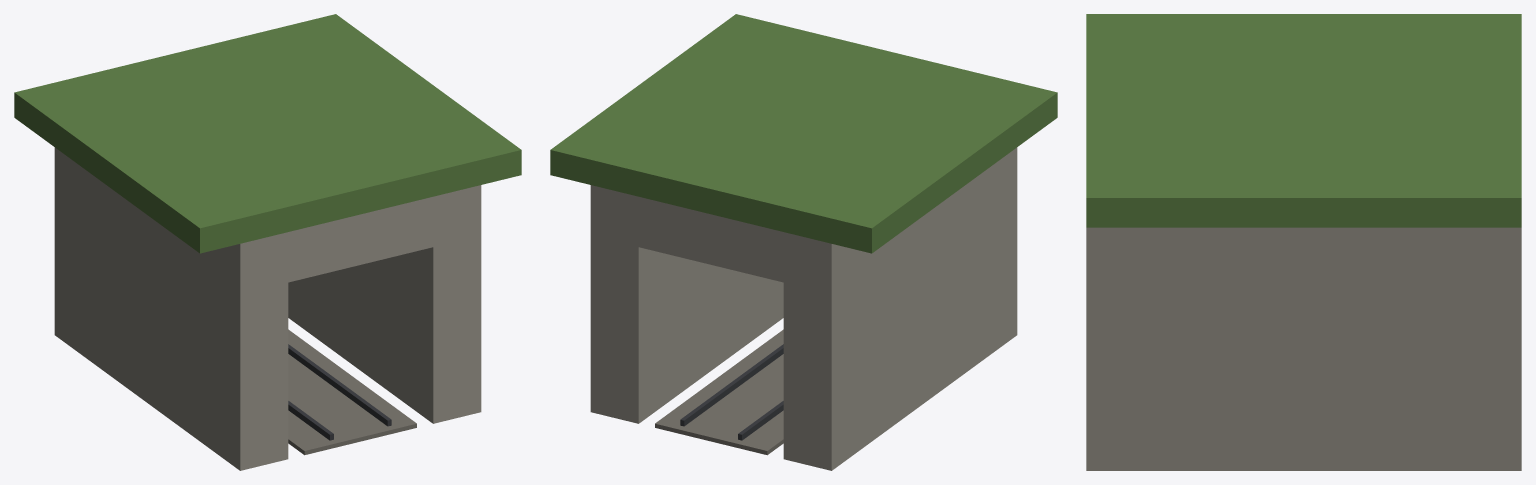
The model's file is road_rail_v_tunnel_lod2.glb.
3 views of the same model, side by side, from view 1: azimuth 30°, elevation 25°; view 2: azimuth 150°, elevation 25°; view 3: azimuth 270°, elevation 25° (orthographic). The views are drawn at different scales.
Parts seen in each view (by area): view 1: body; view 2: body; view 3: body.
Boxes of the visible parts, x1,y1,x2,y2 form: body: (14, 14, 521, 470); body: (550, 14, 1057, 470); body: (1086, 14, 1521, 470).
Size of the model in its own units: 8 by 6 by 8.
